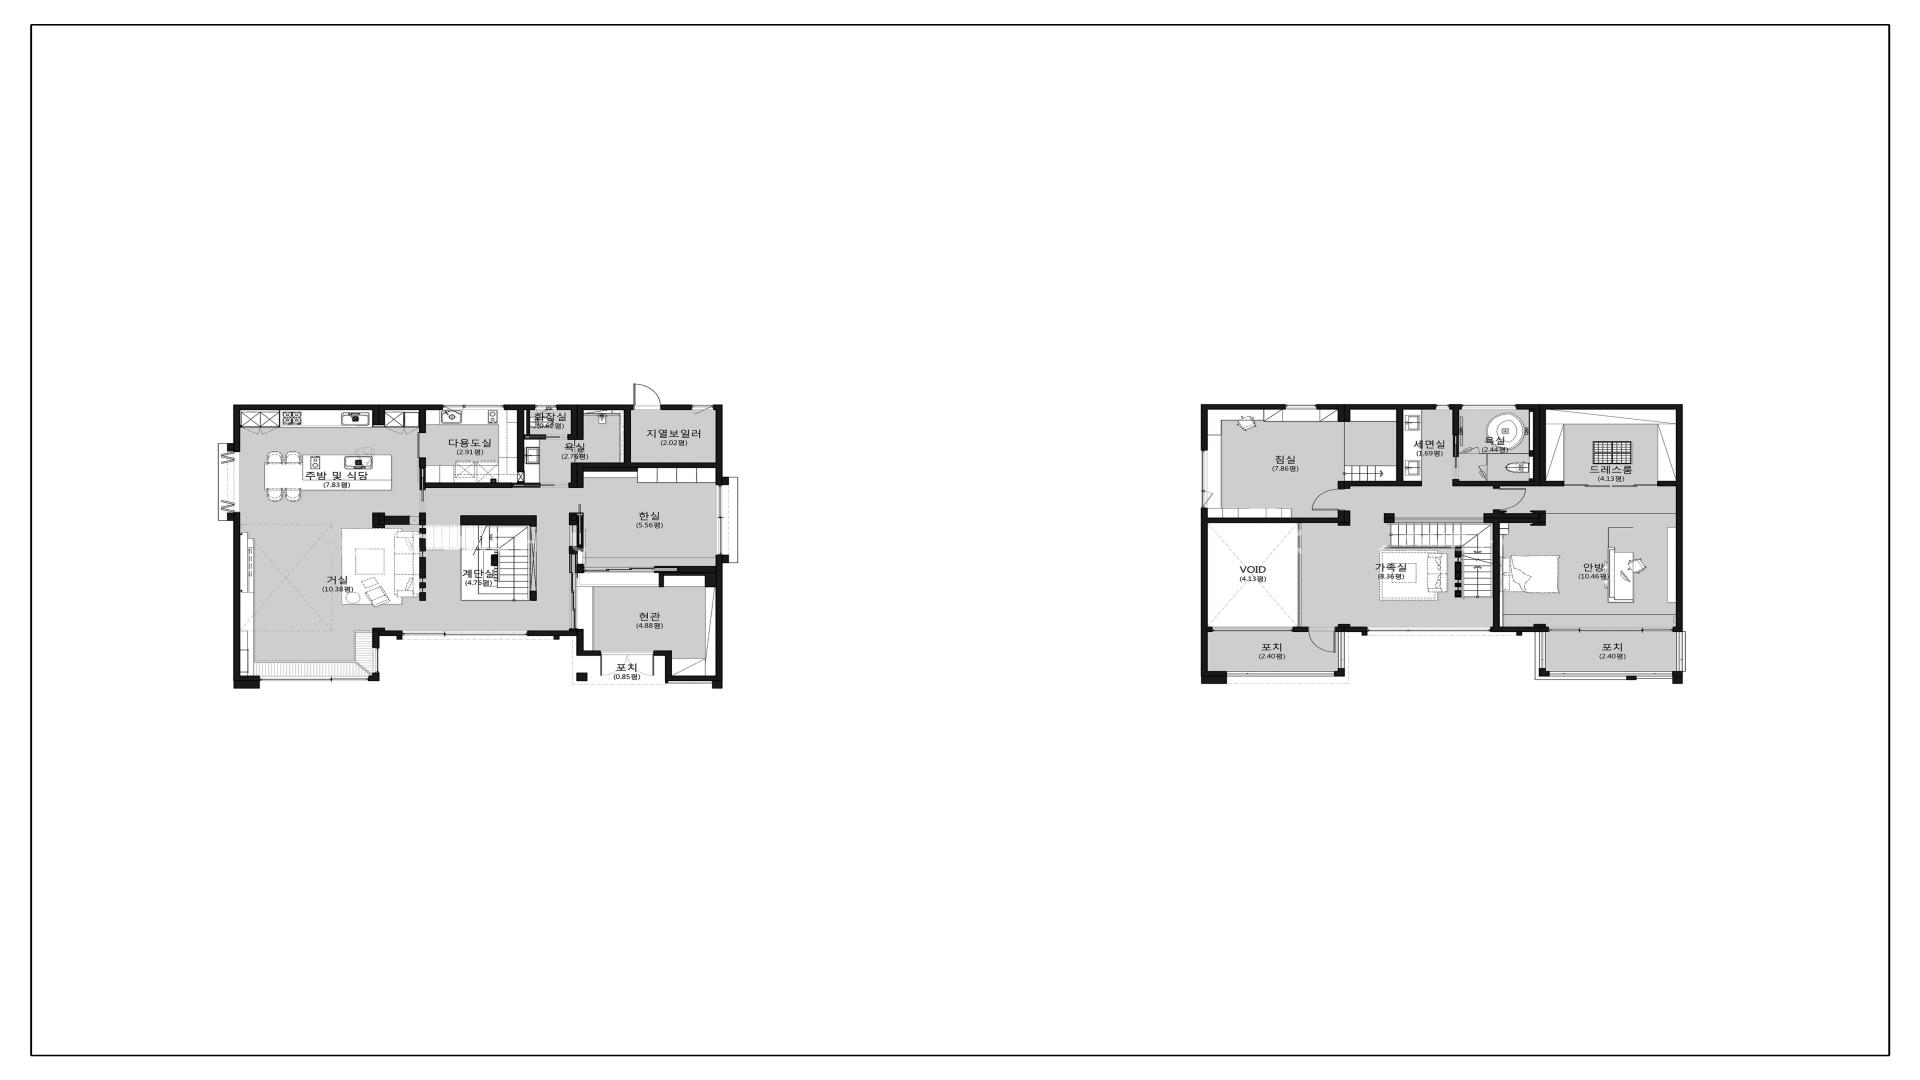door: (600, 651, 654, 675), (222, 452, 240, 513), (568, 554, 579, 630), (1312, 488, 1345, 512), (1493, 488, 1526, 510), (633, 384, 661, 410), (1308, 626, 1336, 653), (583, 566, 678, 572), (1564, 481, 1658, 488), (576, 488, 584, 546), (419, 468, 426, 513), (513, 483, 568, 488), (1453, 435, 1460, 479), (525, 434, 567, 439), (418, 433, 426, 458), (1478, 465, 1487, 481), (1458, 447, 1480, 454)
wall: (1676, 410, 1683, 626), (1201, 508, 1208, 671), (240, 405, 443, 410), (233, 513, 240, 675), (1516, 405, 1683, 410), (1208, 517, 1338, 524), (716, 555, 723, 680), (571, 463, 716, 468), (1493, 522, 1499, 626), (460, 516, 530, 525), (1316, 405, 1436, 410), (517, 410, 525, 483), (1460, 481, 1564, 487), (567, 410, 584, 440), (716, 410, 723, 485), (1539, 410, 1545, 481), (1396, 410, 1403, 481), (426, 483, 512, 488), (1201, 405, 1286, 410), (624, 410, 632, 463), (1298, 524, 1302, 626), (556, 405, 633, 410), (1535, 410, 1540, 481), (1350, 481, 1422, 487), (233, 405, 240, 452), (1490, 626, 1549, 632), (678, 566, 716, 574), (1484, 513, 1540, 518), (665, 675, 716, 680), (1201, 410, 1208, 450), (527, 630, 576, 636), (385, 516, 410, 525), (1484, 518, 1540, 522), (584, 468, 638, 472), (372, 512, 385, 527), (1452, 409, 1460, 435), (233, 680, 260, 688), (1201, 676, 1226, 684), (372, 410, 385, 425), (571, 468, 584, 483), (1535, 669, 1549, 680), (1336, 626, 1367, 632), (504, 405, 535, 410), (661, 405, 692, 410), (665, 572, 705, 576), (372, 630, 402, 636), (665, 655, 673, 675), (576, 630, 584, 650), (705, 572, 716, 587), (419, 410, 426, 433), (419, 556, 426, 579), (1672, 671, 1683, 684), (233, 675, 260, 680), (1201, 671, 1226, 676), (576, 650, 601, 655), (1383, 513, 1395, 524), (568, 546, 584, 554), (1455, 562, 1461, 580), (1658, 481, 1676, 487), (654, 650, 673, 655), (526, 410, 530, 434), (576, 673, 588, 680), (372, 636, 380, 647), (368, 673, 380, 680), (1337, 510, 1344, 524), (419, 538, 426, 551), (410, 516, 419, 525), (1335, 669, 1345, 676), (1292, 626, 1308, 632), (568, 483, 584, 488), (712, 680, 723, 688), (419, 513, 426, 525), (1337, 410, 1344, 422), (1344, 410, 1350, 422), (1344, 510, 1350, 522), (1455, 546, 1461, 558), (570, 513, 576, 525), (659, 572, 665, 587), (1449, 404, 1462, 409), (419, 458, 426, 468), (578, 563, 584, 574), (530, 591, 537, 601), (530, 516, 537, 526), (1452, 479, 1460, 487), (419, 592, 426, 601), (1626, 675, 1636, 680), (227, 443, 233, 451), (1344, 481, 1350, 489), (1337, 481, 1344, 489), (723, 477, 729, 485), (723, 555, 729, 563), (227, 513, 233, 521), (1673, 626, 1683, 632), (1540, 513, 1545, 522), (713, 405, 723, 410), (1338, 522, 1350, 526), (419, 527, 426, 534), (1455, 591, 1461, 597), (1535, 522, 1545, 526), (1337, 624, 1350, 626), (372, 628, 385, 630), (419, 583, 426, 588), (1534, 624, 1545, 626), (1534, 510, 1545, 513), (1455, 583, 1461, 587), (1208, 626, 1212, 632), (1362, 632, 1367, 636), (1516, 632, 1522, 636), (554, 636, 559, 640), (397, 636, 402, 640), (1493, 510, 1499, 513), (1486, 454, 1487, 465), (1499, 510, 1503, 513), (1493, 487, 1499, 488), (579, 629, 584, 630), (1480, 454, 1535, 454), (575, 440, 575, 446)
window: (402, 630, 527, 640), (1367, 626, 1490, 636), (1549, 671, 1672, 680), (716, 485, 729, 555), (1548, 626, 1673, 632), (1226, 671, 1335, 676), (260, 676, 369, 680), (530, 526, 537, 591), (1212, 626, 1292, 632), (1535, 632, 1545, 669), (1676, 632, 1685, 671), (1395, 518, 1484, 522), (1201, 450, 1208, 491), (1338, 632, 1345, 669), (1461, 405, 1516, 409), (443, 405, 465, 414), (535, 405, 558, 414), (691, 405, 713, 414), (1201, 491, 1213, 508), (465, 405, 504, 410), (1286, 405, 1317, 410), (373, 647, 380, 673), (570, 525, 576, 546), (1436, 404, 1449, 410), (419, 551, 426, 556), (419, 534, 426, 538), (419, 579, 426, 583), (419, 588, 426, 592), (1455, 558, 1461, 562), (1455, 587, 1461, 591), (419, 525, 426, 527), (1455, 580, 1461, 583)
